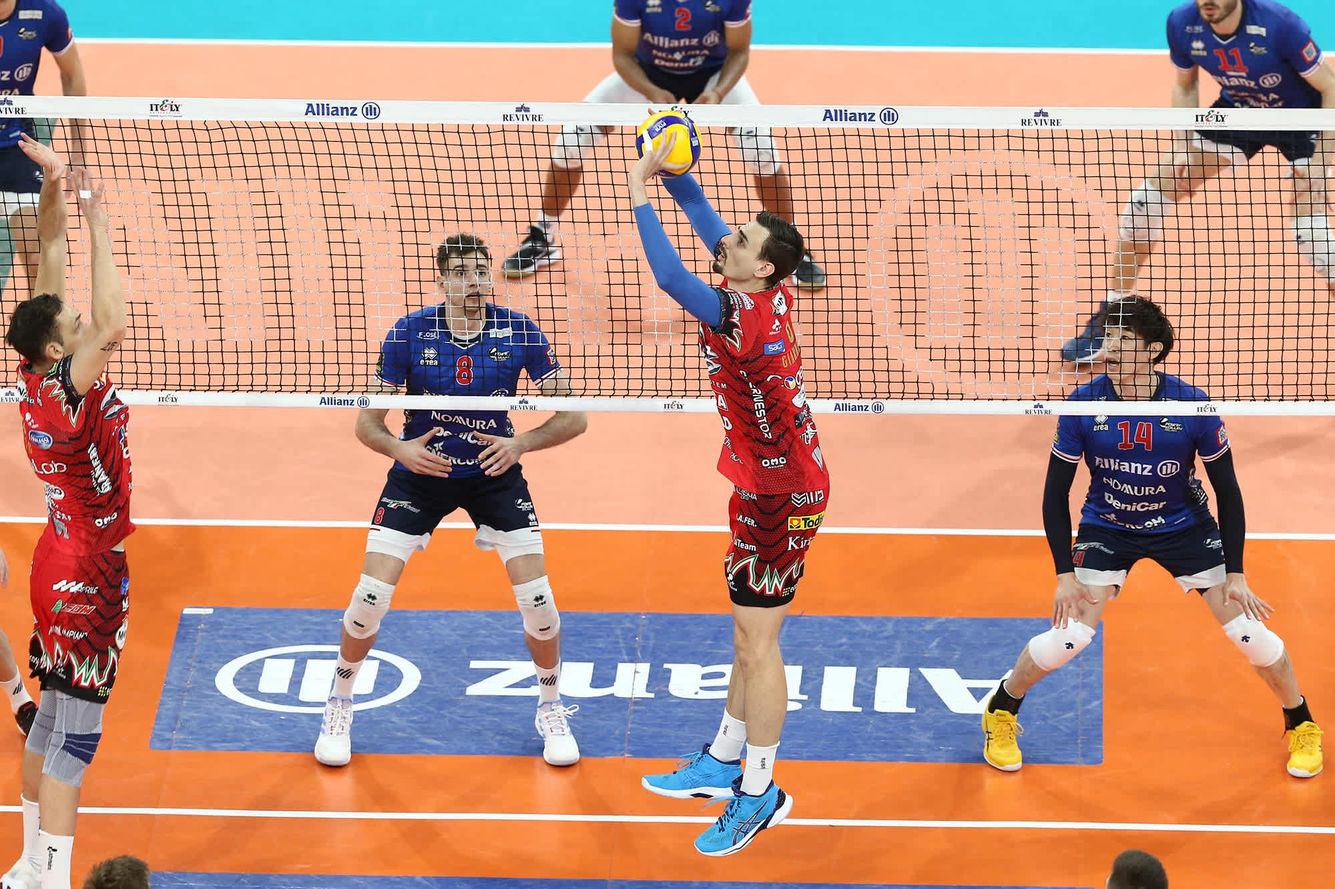ballon_volley: (634, 112, 701, 180)
